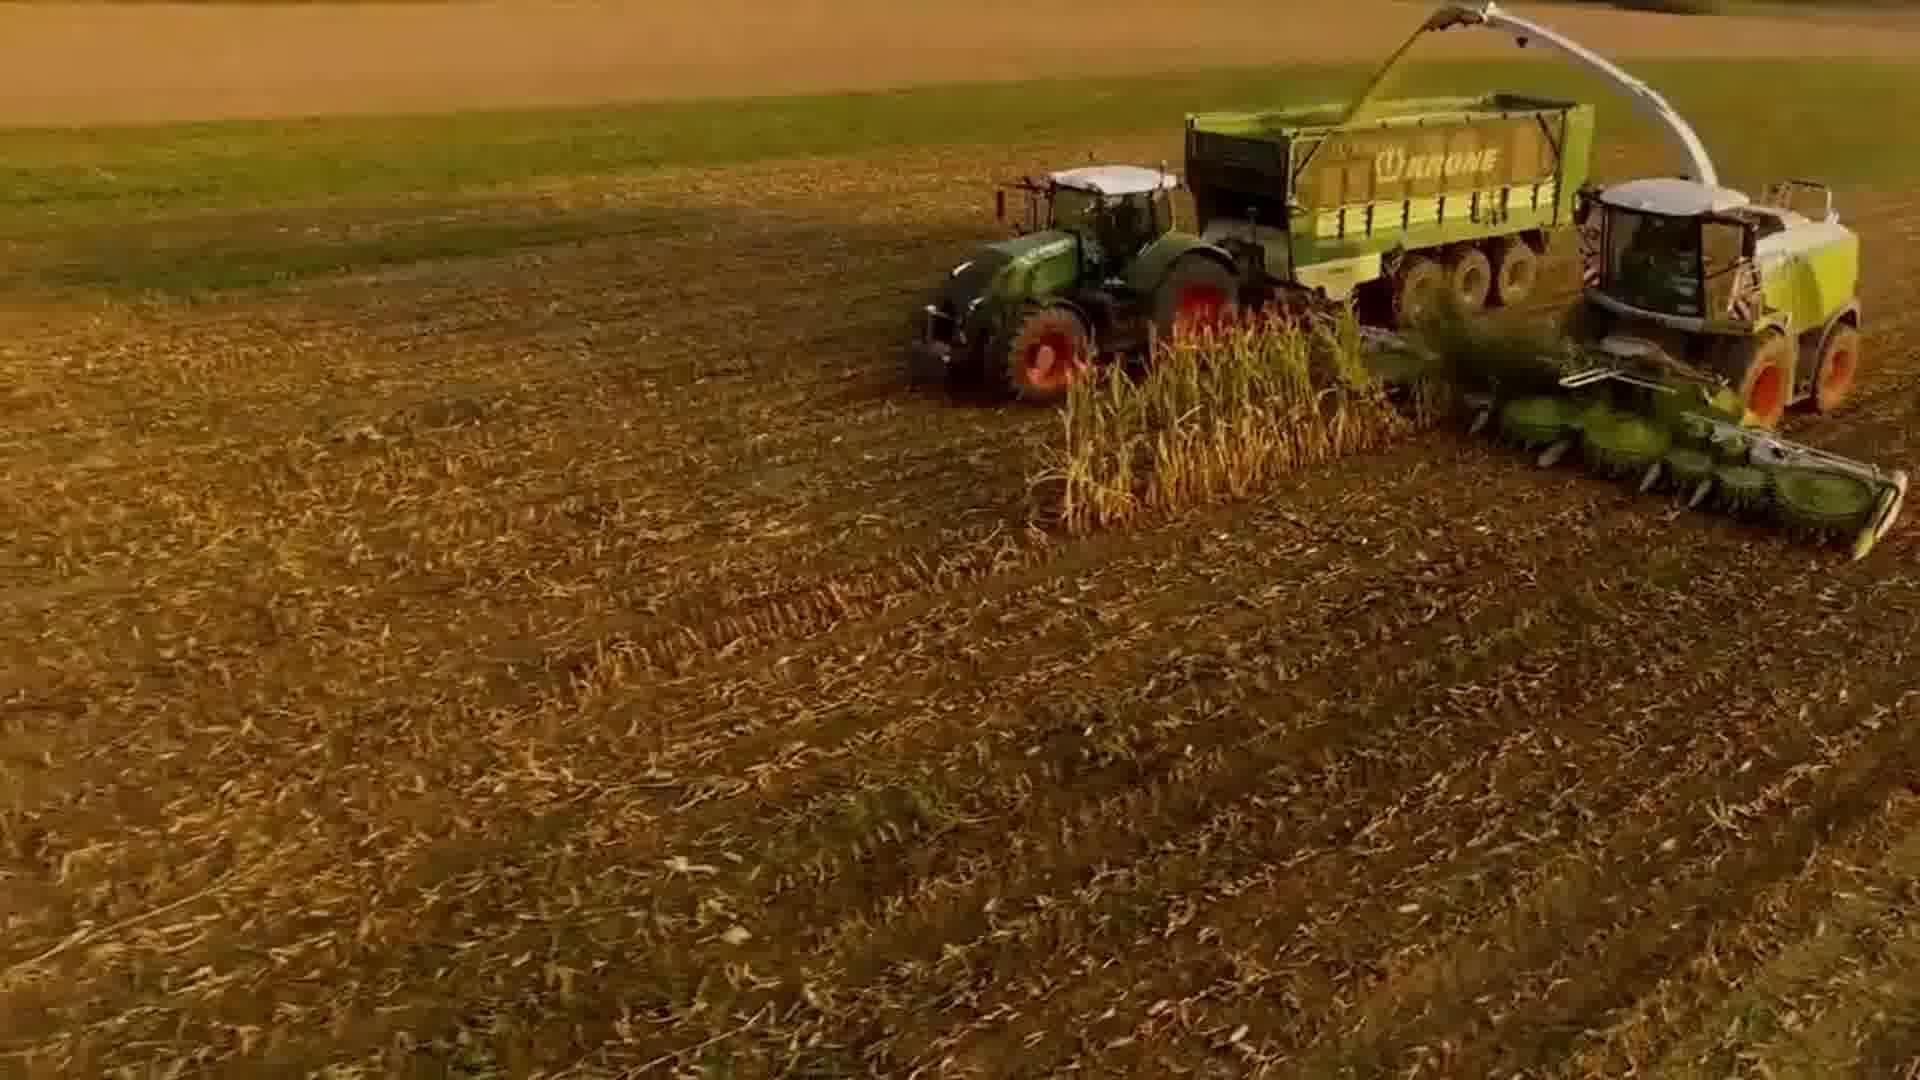combine harvester: (1303, 0, 1920, 568)
tractor: (897, 144, 1253, 414)
trailer: (1182, 83, 1601, 336)
